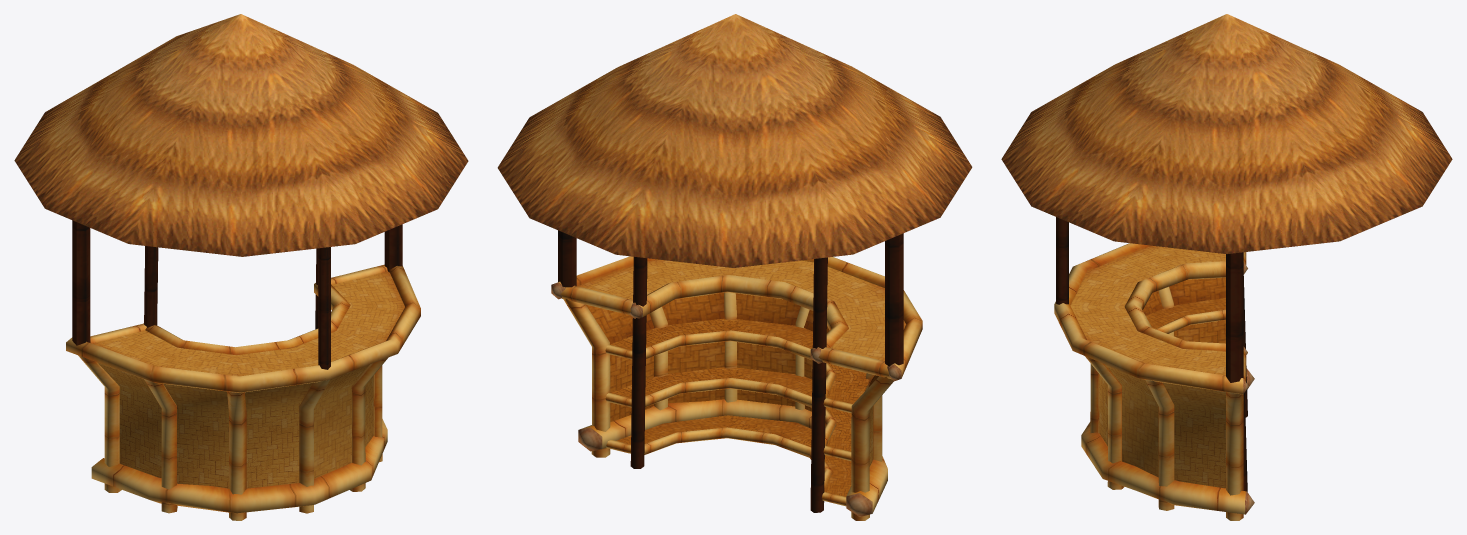
File: Bamboo_Bar_01.FBX
3 renders of one model, left to right at view 1: azimuth 30°, elevation 25°; view 2: azimuth 150°, elevation 25°; view 3: azimuth 270°, elevation 25°, orthographic. The views are drawn at different scales.
Visible parts, largest first — view 1: Bamboo_Bar_01; view 2: Bamboo_Bar_01; view 3: Bamboo_Bar_01.
Part boxes in pixels (x1,y1,x2,y2): Bamboo_Bar_01: (14, 14, 468, 520); Bamboo_Bar_01: (497, 14, 972, 520); Bamboo_Bar_01: (1001, 14, 1452, 520).
Bounding box in the file's own units: 2.96 × 2.97 × 3.22.
